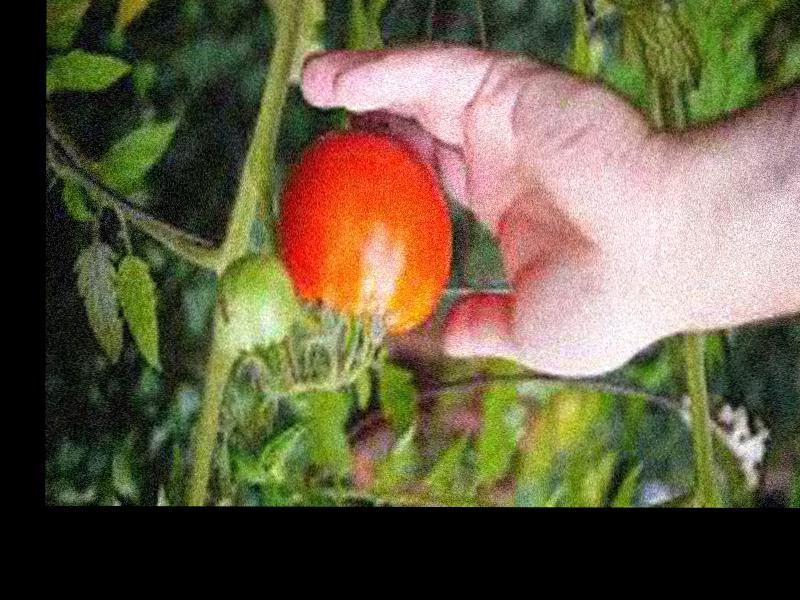Tomato: (273, 131, 453, 338)
